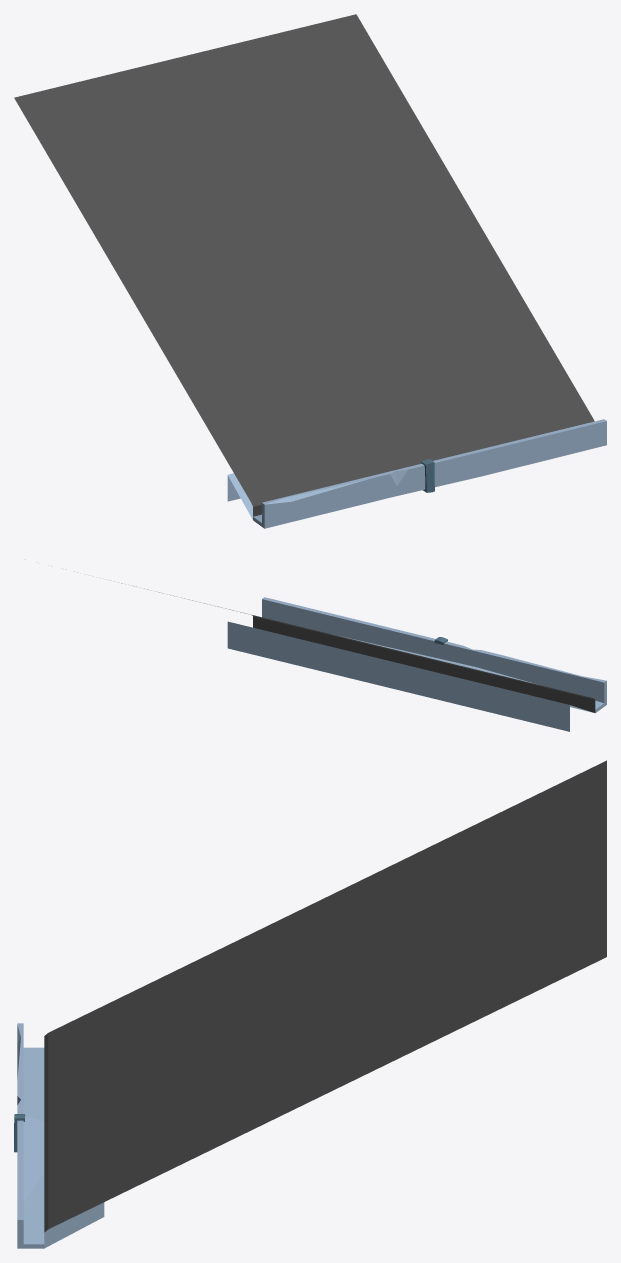
The model's file is House01_Roof_Angled_01.fbx.
3 renders of one model, top to bottom at view 1: azimuth 30°, elevation 25°; view 2: azimuth 150°, elevation 25°; view 3: azimuth 270°, elevation 25°, orthographic. The views are drawn at different scales.
Visible parts, largest first — view 1: SM_Bld_House_Roof_Angled_Gutter_01; view 2: SM_Bld_House_Roof_Angled_Gutter_01; view 3: SM_Bld_House_Roof_Angled_Gutter_01.
Boxes of the visible parts, x1,y1,x2,y2 form: SM_Bld_House_Roof_Angled_Gutter_01: [14, 14, 606, 528]; SM_Bld_House_Roof_Angled_Gutter_01: [121, 583, 606, 731]; SM_Bld_House_Roof_Angled_Gutter_01: [14, 760, 606, 1248].
Size of the model in its own units: 250 by 175 by 319.
